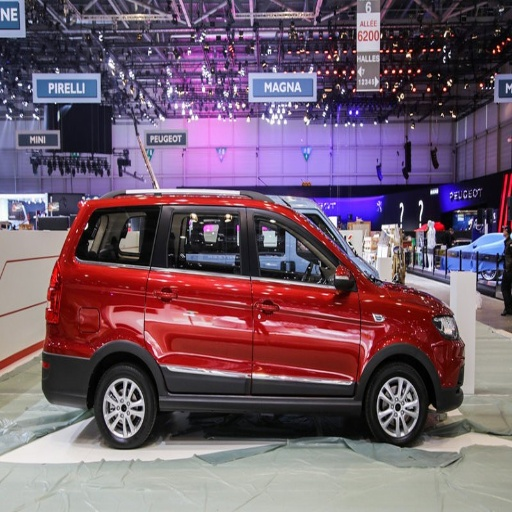front_right_door: (248, 207, 360, 394)
trunk: (59, 286, 137, 389)
